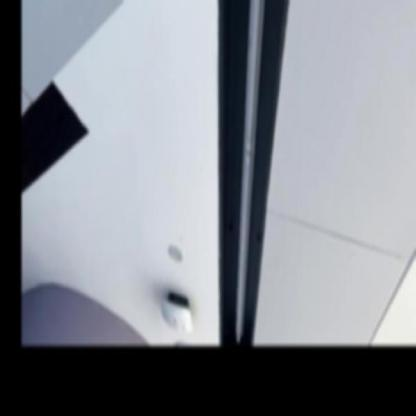light_off: (228, 0, 281, 338)
